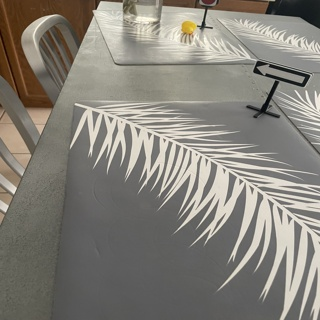sign_oneway_left: (254, 60, 310, 87)
